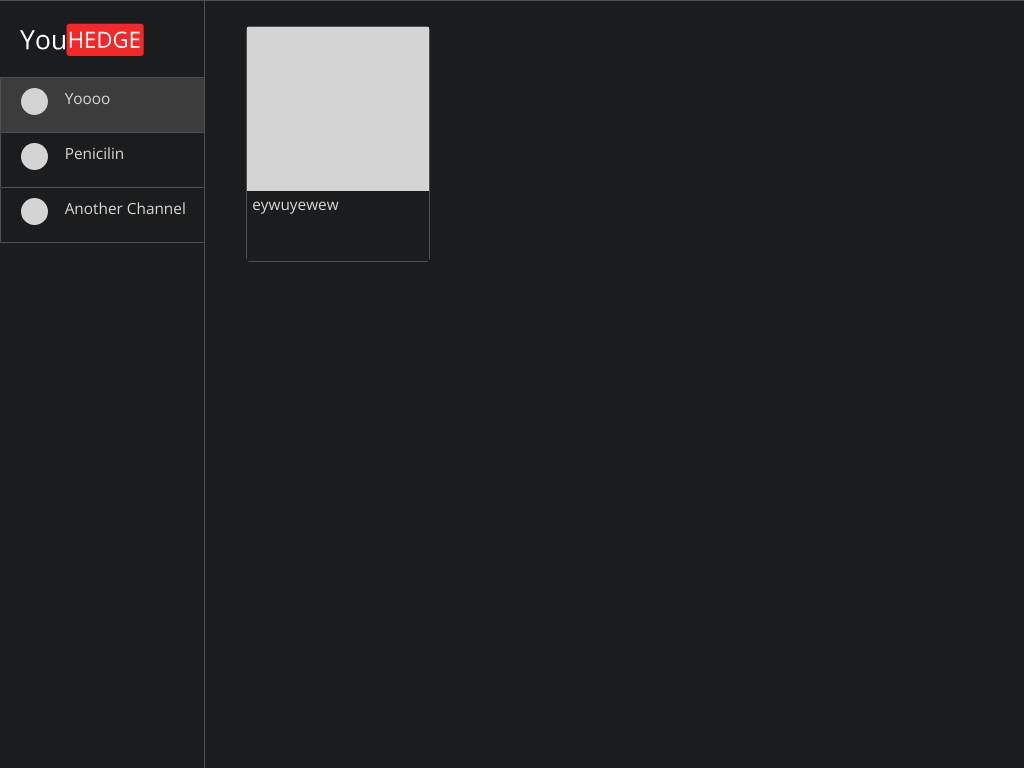
swiping down in the content area loads more playlist items
Expected: the text "eywuyewew" is shown, [252, 196, 424, 215]
Expected: the text "adyuaywejhwhe" is not shown
Press the mouse on the element with test id "content-area-scrollview": [614, 384] box [205, 1, 1023, 767]
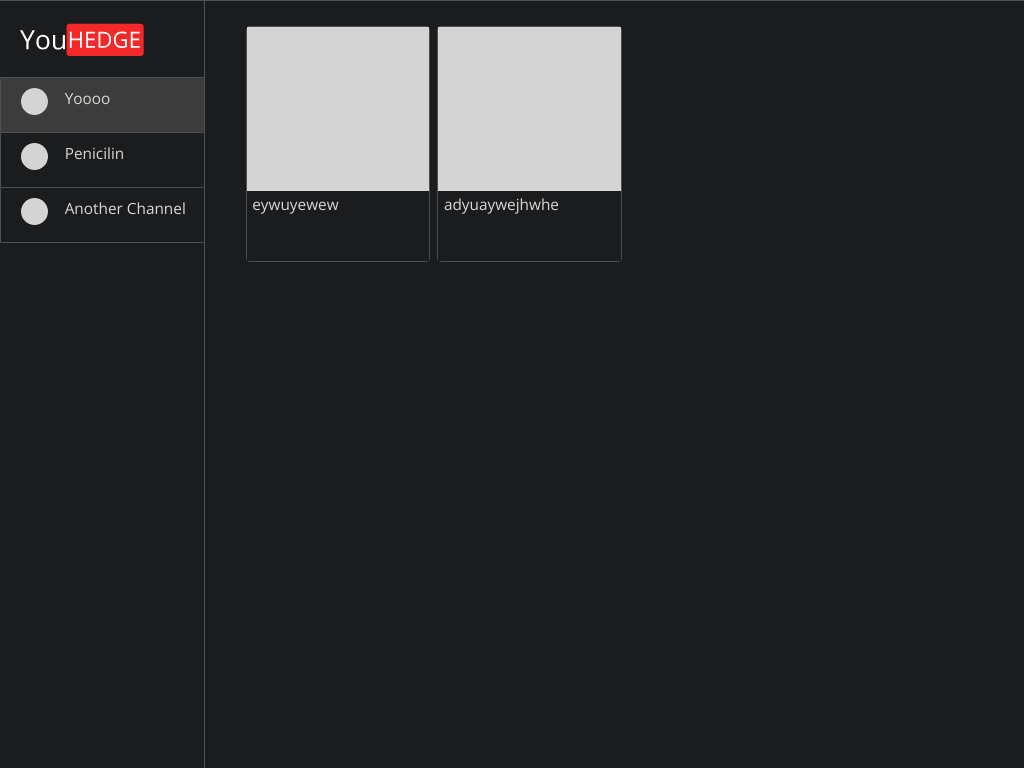
Expected: the text "eywuyewew" is shown, [252, 196, 424, 215]
Expected: the text "adyuaywejhwhe" is shown, [444, 196, 615, 215]
